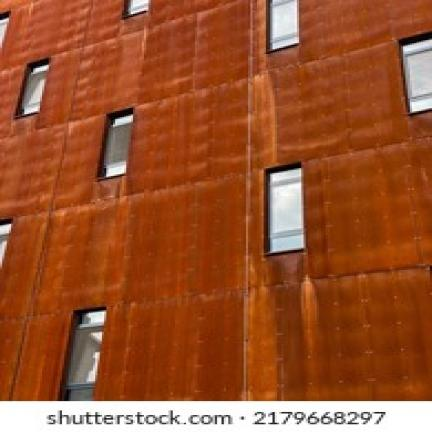karat: (0, 0, 428, 402)
